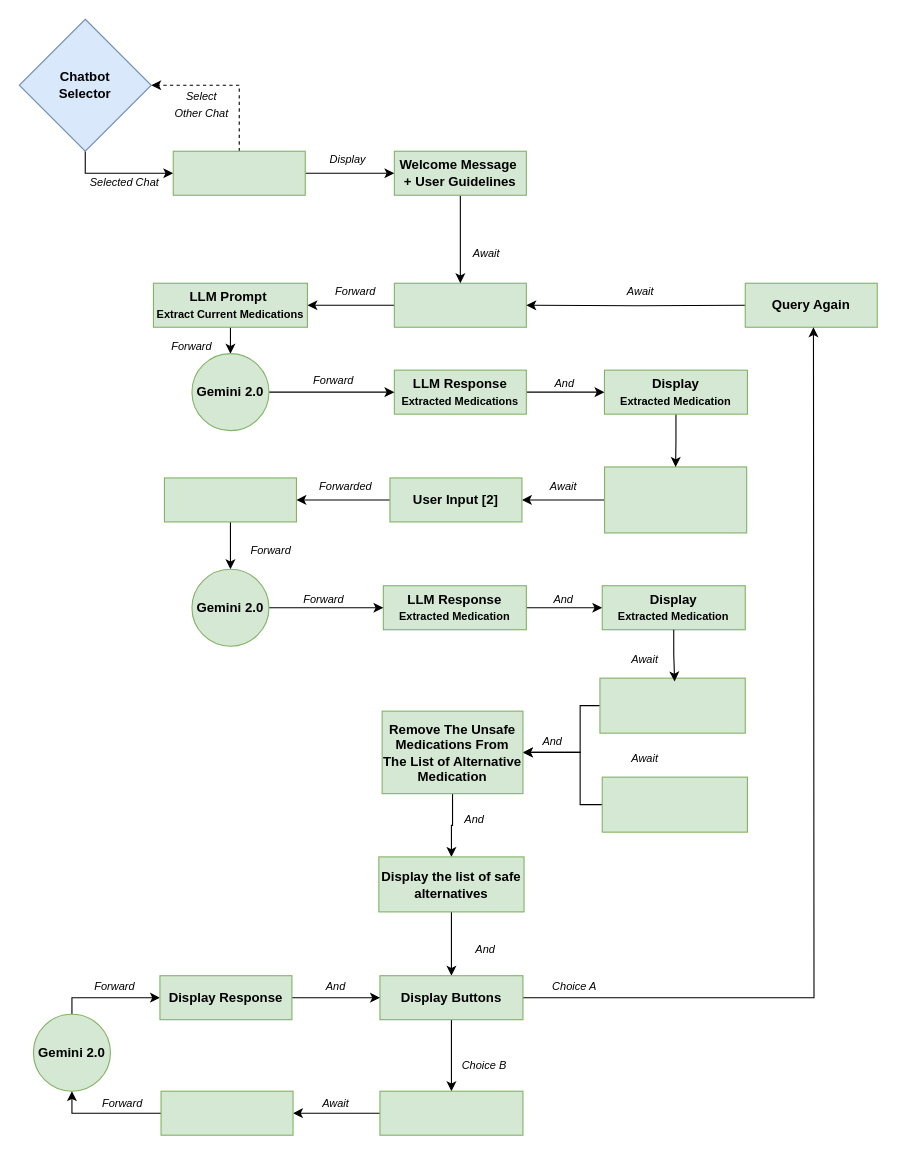
This 897x1155 diagram has some shape labels left out. The shapes that lost their labels are listed below. From the top down, each one's centre as x and y in pixels, then its label:
point 238,172: Alternative Medication
point 459,304: User Input [1]
point 229,499: LLM Prompt Extract Medication
point 675,499: Request Another Medicine for Alternative Analysis
point 672,705: SPARQL WikiData for Alternative Medication
point 674,804: SPARQL WikiData for Unsafe Medication
point 226,1112: User Input [ALT]
point 451,1112: Ask for further details
